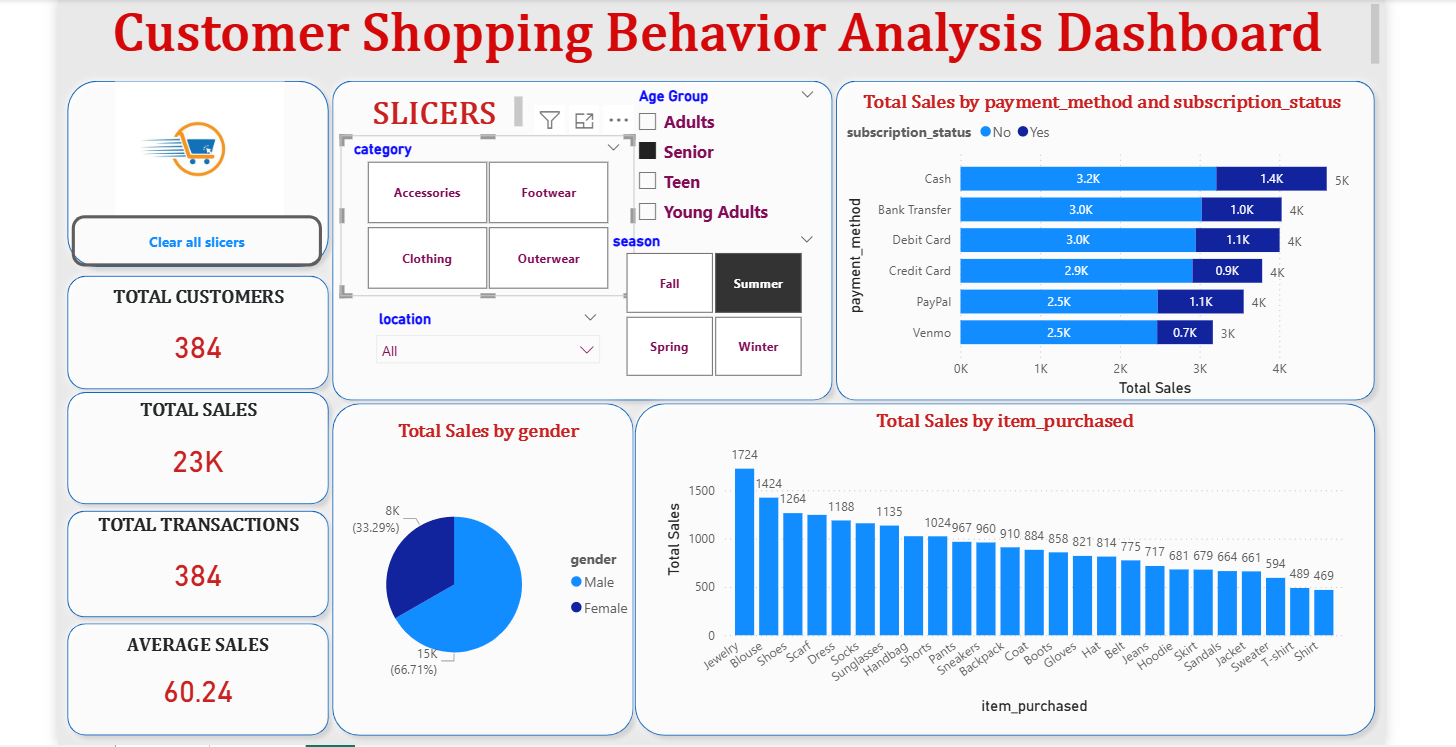

This screenshot's page, from the dashboard's own definition file:
{"tool":"powerbi","page":{"name":"Page 1","canvas":[1280,720],"ordinal":0},"visuals":[{"type":"textbox","box":[0,0,1280.3,70],"z":0},{"type":"shape","box":[0,70,270.3,149.6],"z":1000},{"type":"shape","box":[0,205.8,270.3,140],"z":2000},{"type":"shape","box":[0,330.7,270.3,149.6],"z":3000},{"type":"shape","box":[0,463.8,270.3,146.8],"z":4000},{"type":"shape","box":[0,594.2,270.3,126.2],"z":5000},{"type":"shape","box":[255.2,70,500.9,326.6],"z":6000},{"type":"shape","box":[742.4,70,537.9,326.6],"z":7000},{"type":"shape","box":[255.2,381.5,308.7,338.9],"z":8000},{"type":"shape","box":[547.5,381.5,732.8,338.9],"z":9000},{"type":"card","title":"TOTAL CUSTOMERS","fields":{"Values":["eda_customer_data.Total Customers"]},"box":[24.7,89.2,222.3,116.6],"z":10000},{"type":"card","title":"TOTAL SALES","fields":{"Values":["eda_customer_data.Total Sales"]},"box":[24.7,219.6,222.3,111.1],"z":11000},{"type":"card","title":"TOTAL TRANSACTIONS","fields":{"Values":["eda_customer_data.Total Transactions"]},"box":[24.7,345.8,222.3,118],"z":12000},{"type":"card","title":"AVERAGE SALES","fields":{"Values":["eda_customer_data.Average Sales"]},"box":[24.7,480.3,222.3,113.9],"z":13000},{"type":"card","title":"AVERAGE RATING","fields":{"Values":["eda_customer_data.Average Rating"]},"box":[13.7,610.6,233.3,93.3],"z":14000},{"type":"pieChart","fields":{"Category":["eda_customer_data.gender"],"Y":["eda_customer_data.Total Sales"]},"box":[264.8,406.2,299.1,299.1],"z":15000},{"type":"slicer","fields":{"Values":["eda_customer_data.category"]},"box":[273.1,131.7,282.7,155.1],"z":16000},{"type":"slicer","fields":{"Values":["eda_customer_data.Age Group"]},"box":[547.5,79.6,194.9,159.2],"z":17000},{"type":"slicer","fields":{"Values":["eda_customer_data.location"]},"box":[296.4,295,236,78.2],"z":18000},{"type":"slicer","fields":{"Values":["eda_customer_data.season"]},"box":[522.8,219.6,219.6,150.9],"z":19000},{"type":"barChart","fields":{"Category":["eda_customer_data.payment_method"],"Series":["eda_customer_data.subscription_status"],"Y":["eda_customer_data.Total Sales"]},"box":[756.1,89.2,502.2,299.1],"z":20000},{"type":"clusteredColumnChart","fields":{"Y":["eda_customer_data.Total Sales"],"Category":["eda_customer_data.item_purchased"]},"box":[581.8,396.6,664.2,299.1],"z":21000},{"type":"textbox","box":[297.8,89.2,155.1,42.5],"z":22000}]}

Visuals, with their boxes on the page's 1280x720 design canvas (x1, y1, x2, y2). These are canvas units, not pixel positions in the 1456x747 screenshot, which may show the page scaled, cropped or inside an application window:
textbox: bbox=[0, 0, 1280, 70]
shape: bbox=[0, 70, 270, 220]
shape: bbox=[0, 206, 270, 346]
shape: bbox=[0, 331, 270, 480]
shape: bbox=[0, 464, 270, 611]
shape: bbox=[0, 594, 270, 720]
shape: bbox=[255, 70, 756, 397]
shape: bbox=[742, 70, 1280, 397]
shape: bbox=[255, 382, 564, 720]
shape: bbox=[548, 382, 1280, 720]
"TOTAL CUSTOMERS" card: bbox=[25, 89, 247, 206]
"TOTAL SALES" card: bbox=[25, 220, 247, 331]
"TOTAL TRANSACTIONS" card: bbox=[25, 346, 247, 464]
"AVERAGE SALES" card: bbox=[25, 480, 247, 594]
"AVERAGE RATING" card: bbox=[14, 611, 247, 704]
pieChart - eda_customer_data.gender x eda_customer_data.Total Sales: bbox=[265, 406, 564, 705]
slicer - eda_customer_data.category: bbox=[273, 132, 556, 287]
slicer - eda_customer_data.Age Group: bbox=[548, 80, 742, 239]
slicer - eda_customer_data.location: bbox=[296, 295, 532, 373]
slicer - eda_customer_data.season: bbox=[523, 220, 742, 370]
barChart - eda_customer_data.payment_method x eda_customer_data.subscription_status: bbox=[756, 89, 1258, 388]
clusteredColumnChart - eda_customer_data.Total Sales x eda_customer_data.item_purchased: bbox=[582, 397, 1246, 696]
textbox: bbox=[298, 89, 453, 132]
